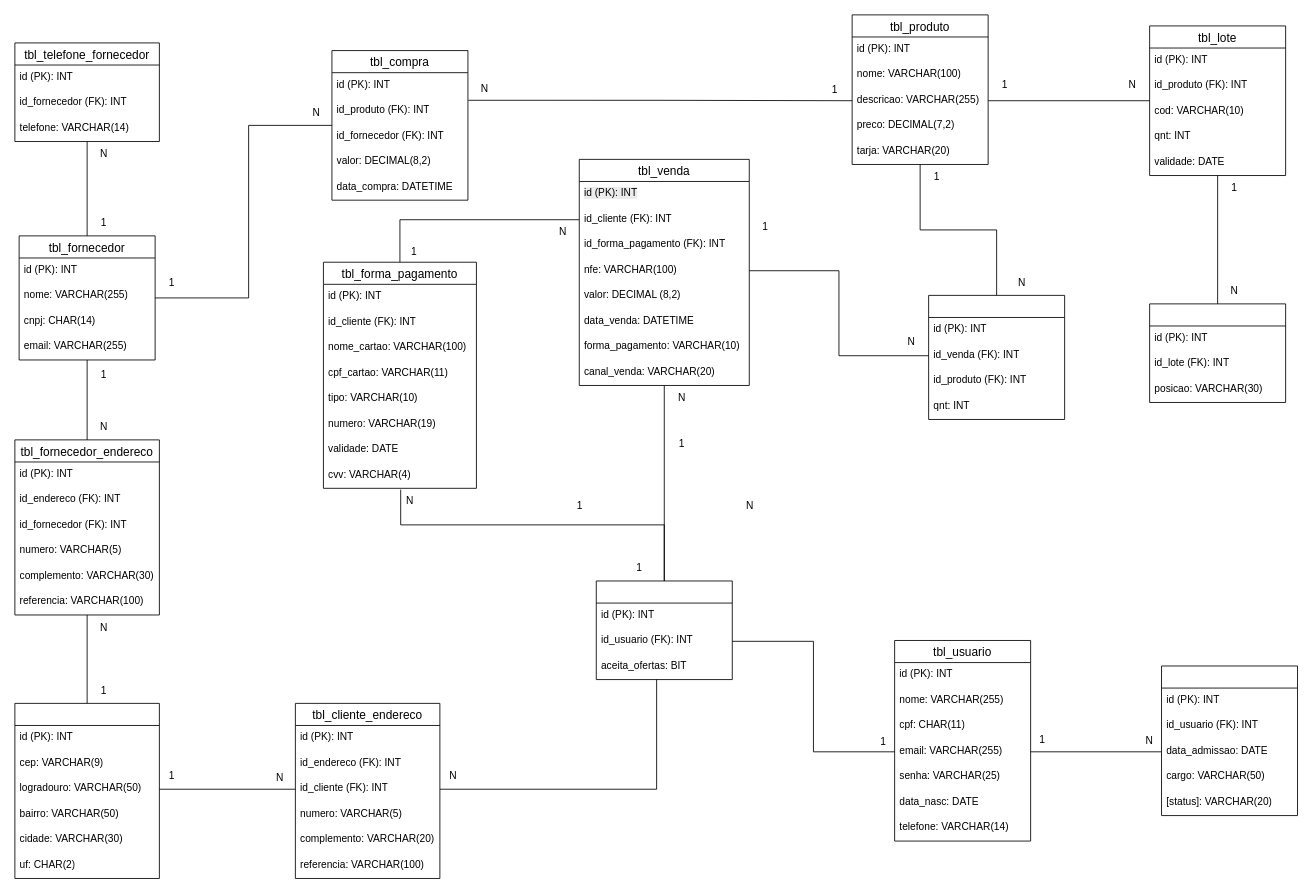
This 1312x896 diagram has some shape labels left out. The shapes that lost their labels are listed below. From the top down, each one's box as (x1, y1, x2, y2) in pixels, then its label:
(928, 295, 1065, 419): tbl_produto_venda
(1149, 303, 1286, 402): tbl_estoque
(595, 580, 732, 680): tbl_cliente
(1161, 665, 1298, 816): tbl_funcionario
(14, 703, 159, 878): tbl_endereco
